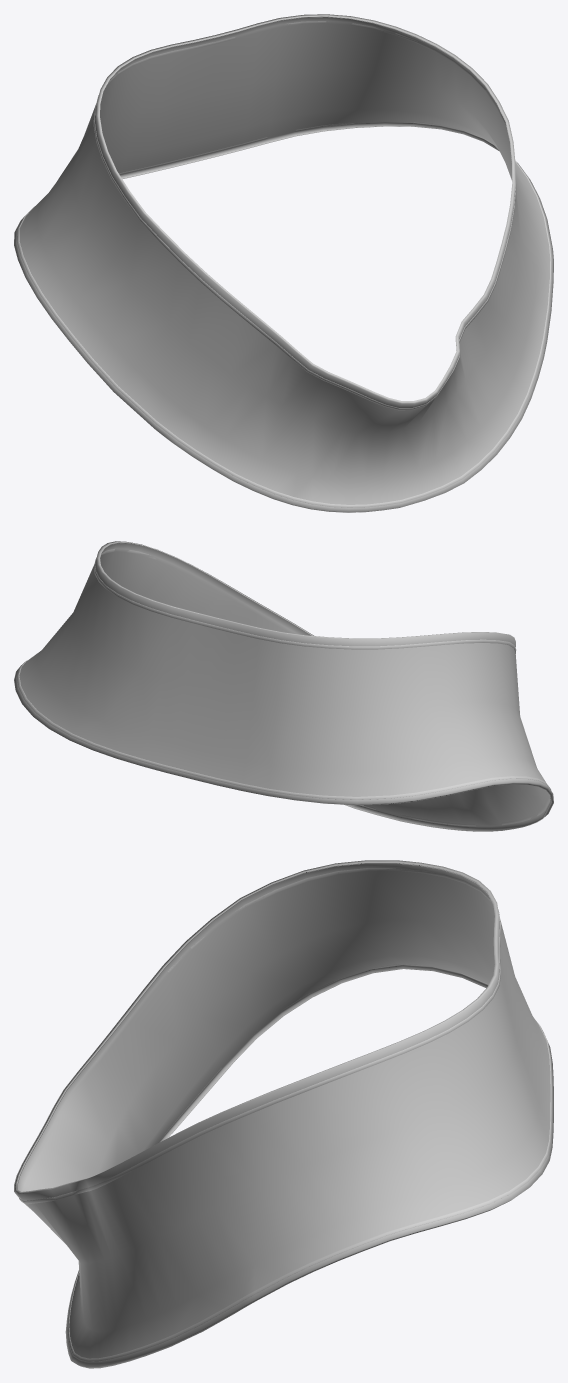
The model's file is Jac_Col.glb.
3 views of the same model, one above another, from view 1: azimuth 30°, elevation 25°; view 2: azimuth 150°, elevation 25°; view 3: azimuth 270°, elevation 25° (orthographic). The views are drawn at different scales.
Parts seen in each view (by area): view 1: Jac_Col1, Rope1; view 2: Jac_Col1, Rope1; view 3: Jac_Col1, Rope1.
Part boxes in pixels (x1,y1,x2,y2): Jac_Col1: (14,14,553,512); Rope1: (17,21,551,507); Jac_Col1: (14,541,553,831); Rope1: (17,549,550,826); Jac_Col1: (14,860,553,1368); Rope1: (19,868,552,1361).
Bounding box in the file's own units: 0.312 × 0.2057 × 0.2552.
2 materials, 2 textured.
